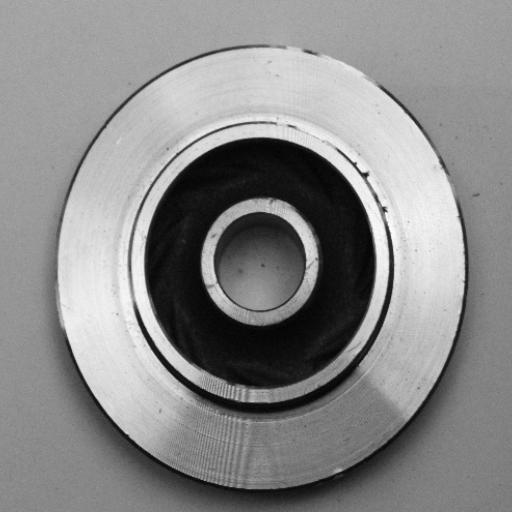crack: (345, 146, 396, 220)
scratch: (279, 30, 385, 90)
unpolished_casting: (52, 39, 468, 496)
